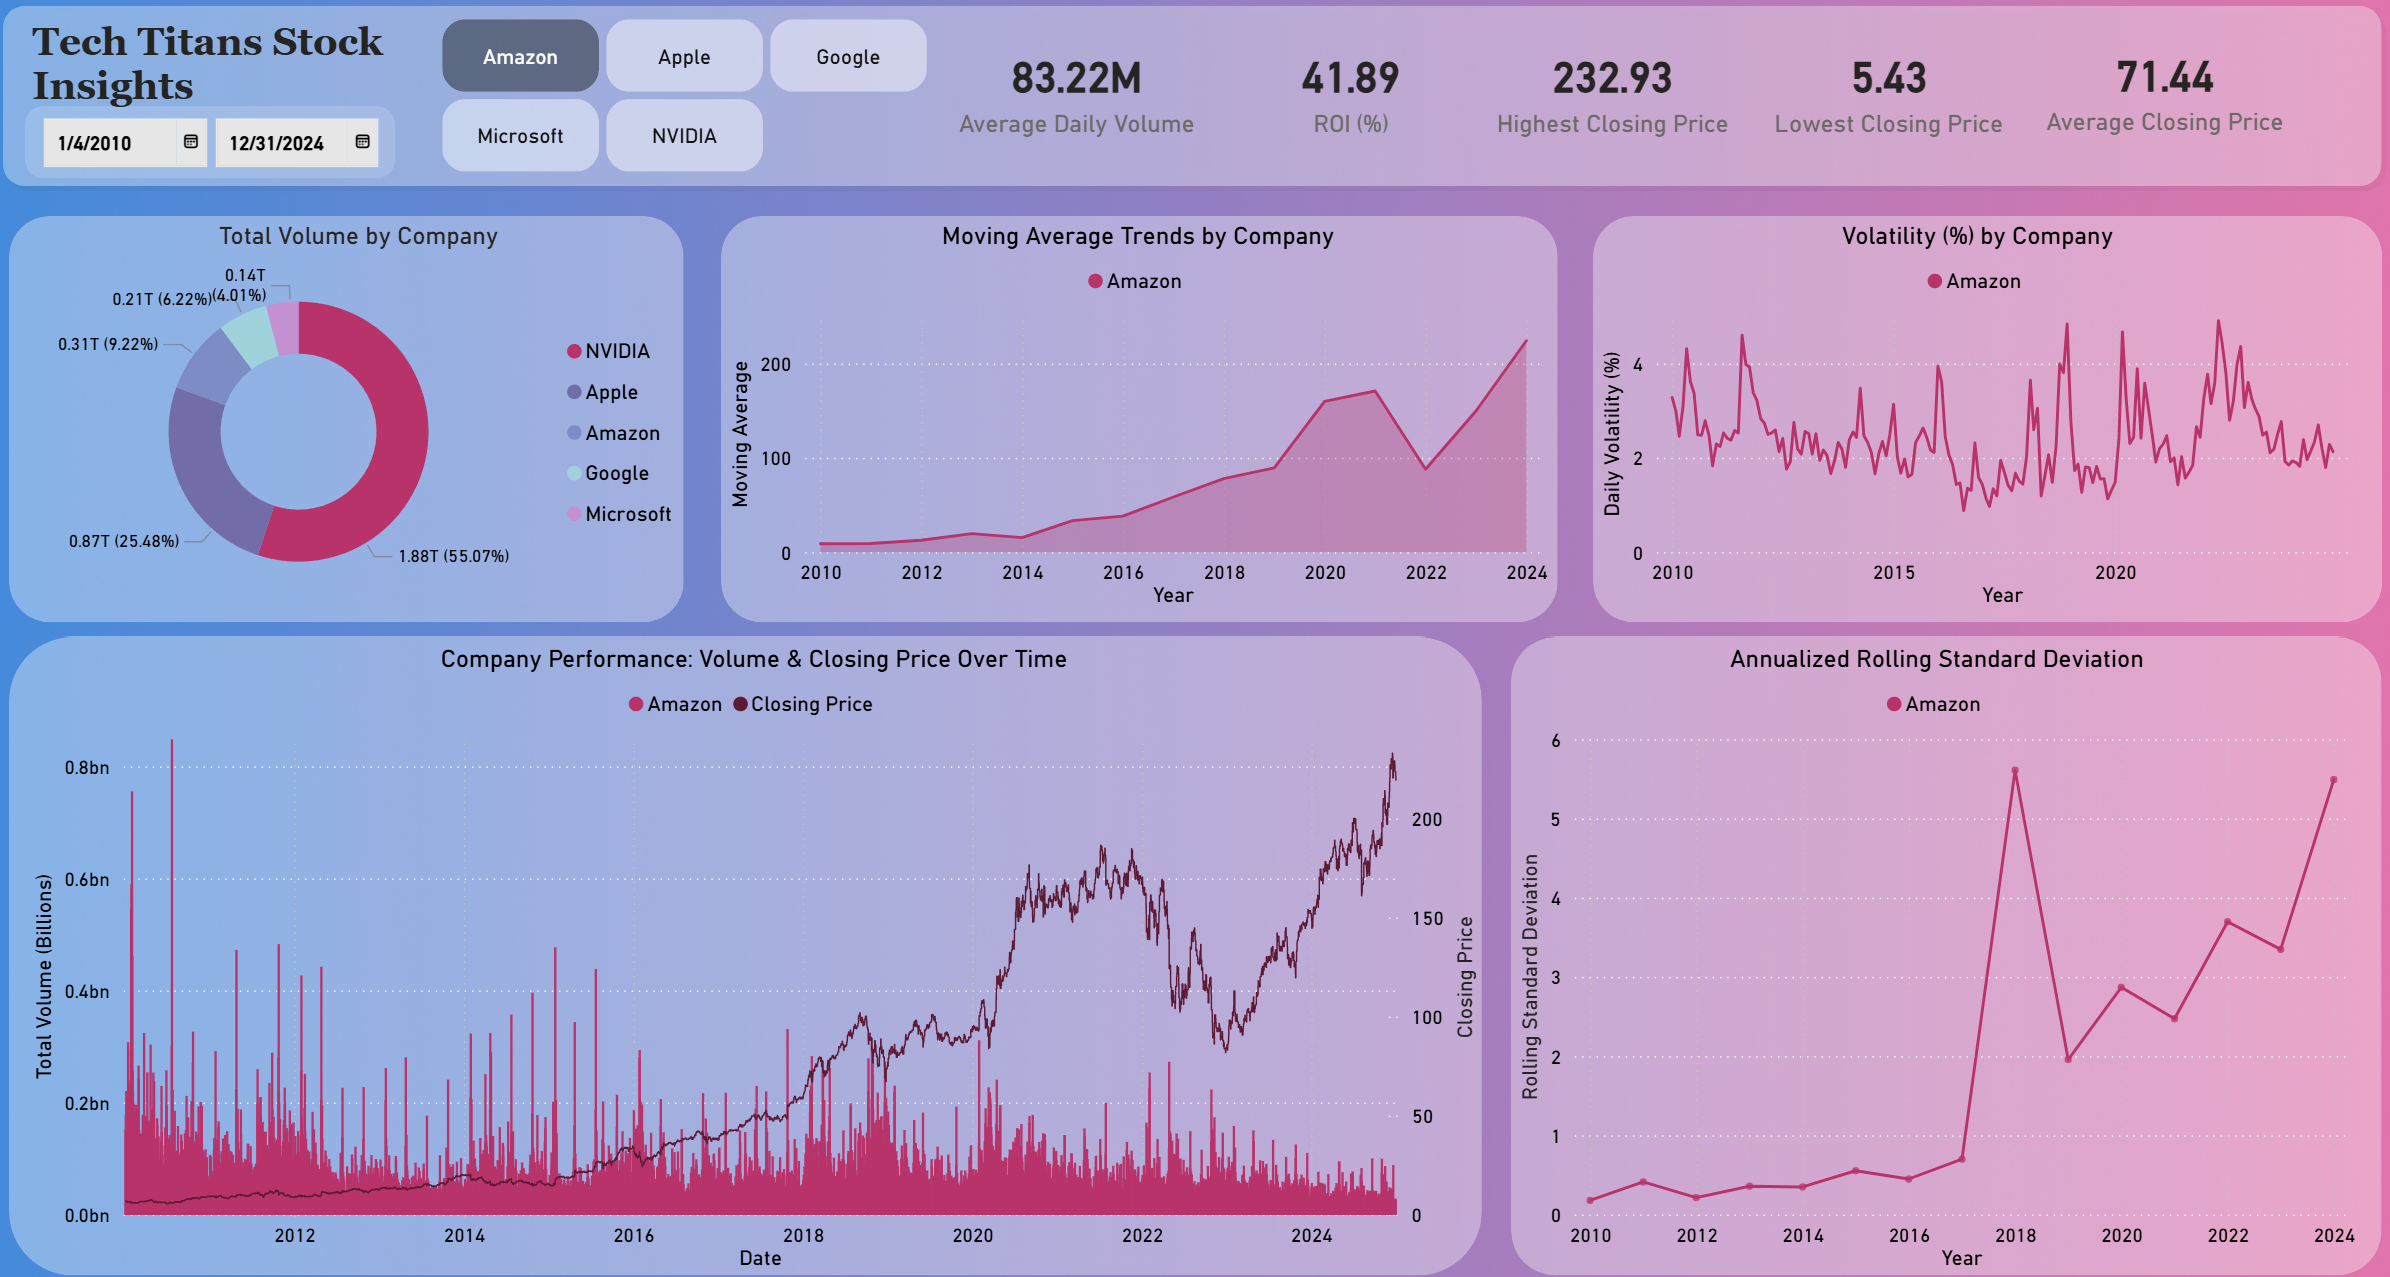

Layout of this report page (visuals, bound fields, positions):
{"tool":"powerbi","page":{"name":"Page 1","canvas":[1650,900],"ordinal":0},"visuals":[{"type":"shape","box":[1045,440,600,440],"z":0},{"type":"shape","box":[10,440,1015,440],"z":1000},{"type":"shape","box":[1101.7,150,544,280],"z":2000},{"type":"shape","box":[500,150,576.7,280],"z":3000},{"type":"shape","box":[10,150,465,280],"z":4000},{"type":"shape","box":[0,0,1650,135],"z":5000},{"type":"shape","box":[20,75,255,50],"z":6000},{"type":"slicer","title":"Date","fields":{"Values":["Date Table.Date"]},"box":[20,73.3,251.7,51.7],"z":7000},{"type":"lineChart","title":"Volatility (%) by Company","fields":{"Category":["Date Table.Date.Variation.Date Hierarchy.Year","Date Table.Date.Variation.Date Hierarchy.Quarter","Date Table.Date.Variation.Date Hierarchy.Month","Date Table.Date.Variation.Date Hierarchy.Day"],"Y":["Stock Data.Daily Volatility"],"Series":["Company Info.Company Name"]},"box":[1101.7,155,530,270],"z":8000},{"type":"lineClusteredColumnComboChart","title":"Company Performance: Volume & Closing Price Over Time","fields":{"Category":["Stock Data.Date"],"Series":["Company Info.Company Name"],"Y":["Stock Data.Total Volume"],"Y2":["Stock Data.Closing Price"]},"box":[20,445,1005,435],"z":9000},{"type":"lineChart","title":"Moving Average Trends by Company","fields":{"Category":["Date Table.Date.Variation.Date Hierarchy.Year","Date Table.Date.Variation.Date Hierarchy.Quarter","Date Table.Date.Variation.Date Hierarchy.Month","Date Table.Date.Variation.Date Hierarchy.Day"],"Y":["Stock Data.Moving Average"],"Series":["Company Info.Company Name"]},"box":[500,155,575,270],"z":10000},{"type":"lineChart","title":"Annualized Rolling Standard Deviation","fields":{"Category":["Date Table.Date.Variation.Date Hierarchy.Year","Date Table.Date.Variation.Date Hierarchy.Quarter","Date Table.Date.Variation.Date Hierarchy.Month","Date Table.Date.Variation.Date Hierarchy.Day"],"Y":["Stock Data.Rolling StdDev"],"Series":["Company Info.Company Name"]},"box":[1045,445,587,435],"z":11000},{"type":"donutChart","title":"Total Volume by Company","fields":{"Y":["Stock Data.Total Volume"],"Category":["Company Info.Company Name"]},"box":[20,155,460,270],"z":12000},{"type":"textbox","box":[20.4,10.2,333.7,76.6],"z":13000},{"type":"card","fields":{"Values":["Stock Data.Average Daily Volume"]},"box":[650,12,190,100.2],"z":14000},{"type":"card","fields":{"Values":["Stock Data.Highest Closing Price"]},"box":[1020,12,190,100.2],"z":15000},{"type":"card","fields":{"Values":["Stock Data.Lowest Closing Price"]},"box":[1210,12,190,100.2],"z":16000},{"type":"card","fields":{"Values":["Stock Data.ROI (%)"]},"box":[840,12,190,100.2],"z":17000},{"type":"card","fields":{"Values":["Stock Data.Average Closing Price"]},"box":[1400,12,190,98.6],"z":18000},{"type":"advancedSlicerVisual","fields":{"Values":["Company Info.Company Name"]},"box":[303.3,10,346.7,115],"z":19000}]}

Visuals, with their boxes in screenshot pixels (x1, y1, x2, y2), scaled from the page's 1650x900 canvas onto the 2390x1277 screenshot:
shape: rect(1514, 624, 2383, 1249)
shape: rect(14, 624, 1485, 1249)
shape: rect(1596, 213, 2384, 610)
shape: rect(724, 213, 1560, 610)
shape: rect(14, 213, 688, 610)
shape: rect(0, 0, 2389, 192)
shape: rect(29, 106, 398, 177)
"Date" slicer: rect(29, 104, 394, 177)
"Volatility (%) by Company" lineChart: rect(1596, 220, 2363, 603)
"Company Performance: Volume & Closing Price Over Time" lineClusteredColumnComboChart: rect(29, 631, 1485, 1249)
"Moving Average Trends by Company" lineChart: rect(724, 220, 1557, 603)
"Annualized Rolling Standard Deviation" lineChart: rect(1514, 631, 2364, 1249)
"Total Volume by Company" donutChart: rect(29, 220, 695, 603)
textbox: rect(30, 14, 513, 123)
card - Stock Data.Average Daily Volume: rect(942, 17, 1217, 159)
card - Stock Data.Highest Closing Price: rect(1477, 17, 1753, 159)
card - Stock Data.Lowest Closing Price: rect(1753, 17, 2028, 159)
card - Stock Data.ROI (%): rect(1217, 17, 1492, 159)
card - Stock Data.Average Closing Price: rect(2028, 17, 2303, 157)
advancedSlicerVisual - Company Info.Company Name: rect(439, 14, 942, 177)
